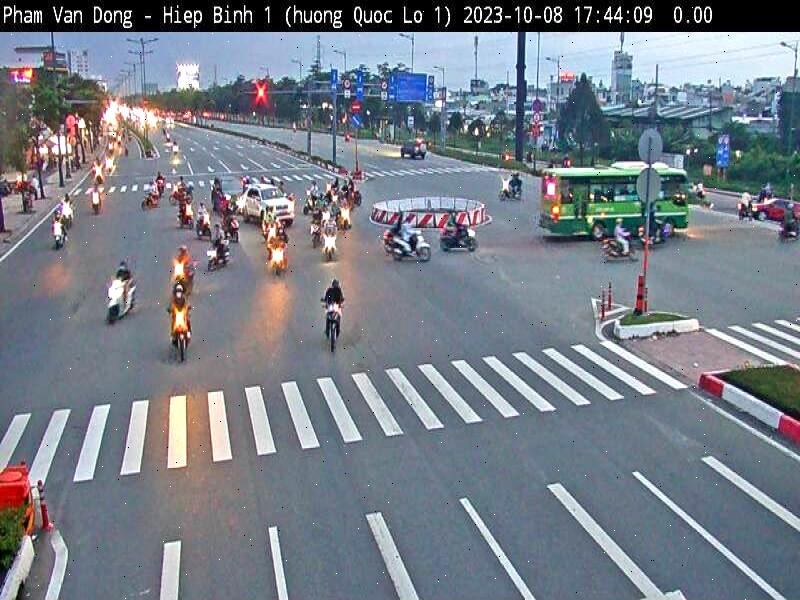bus: (536, 159, 690, 247)
car: (241, 181, 295, 225), (746, 191, 800, 224)
motorcycle: (101, 280, 140, 327), (169, 305, 194, 363), (392, 236, 434, 267), (319, 301, 343, 355), (440, 227, 484, 253), (597, 238, 644, 259)
